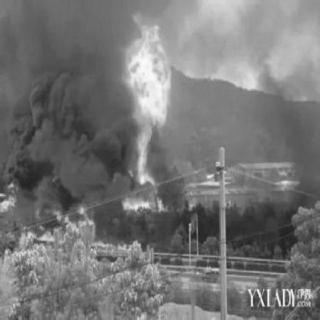Fire: (121, 18, 203, 218), (0, 173, 138, 255)
Smoke: (7, 8, 119, 172)
